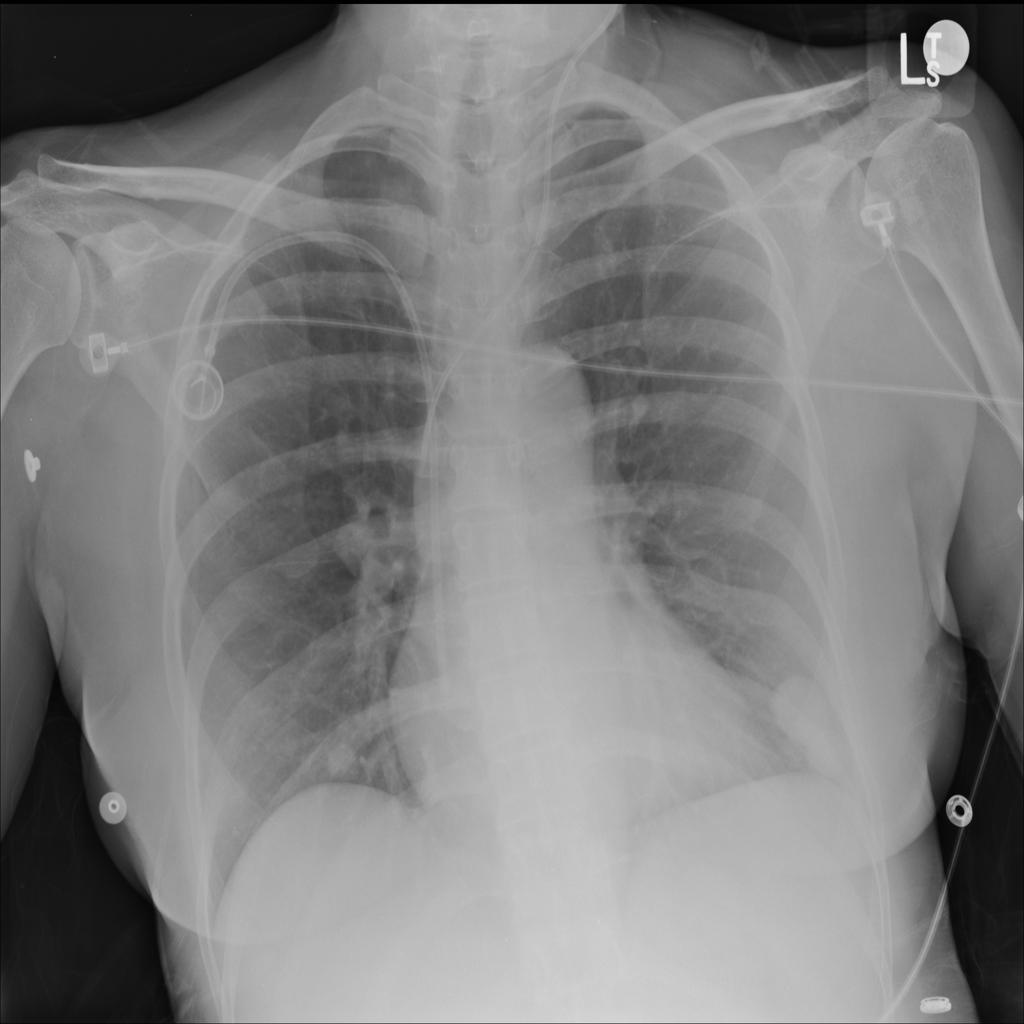nodule: (756, 657, 859, 772), (312, 716, 374, 799), (712, 464, 781, 537)
